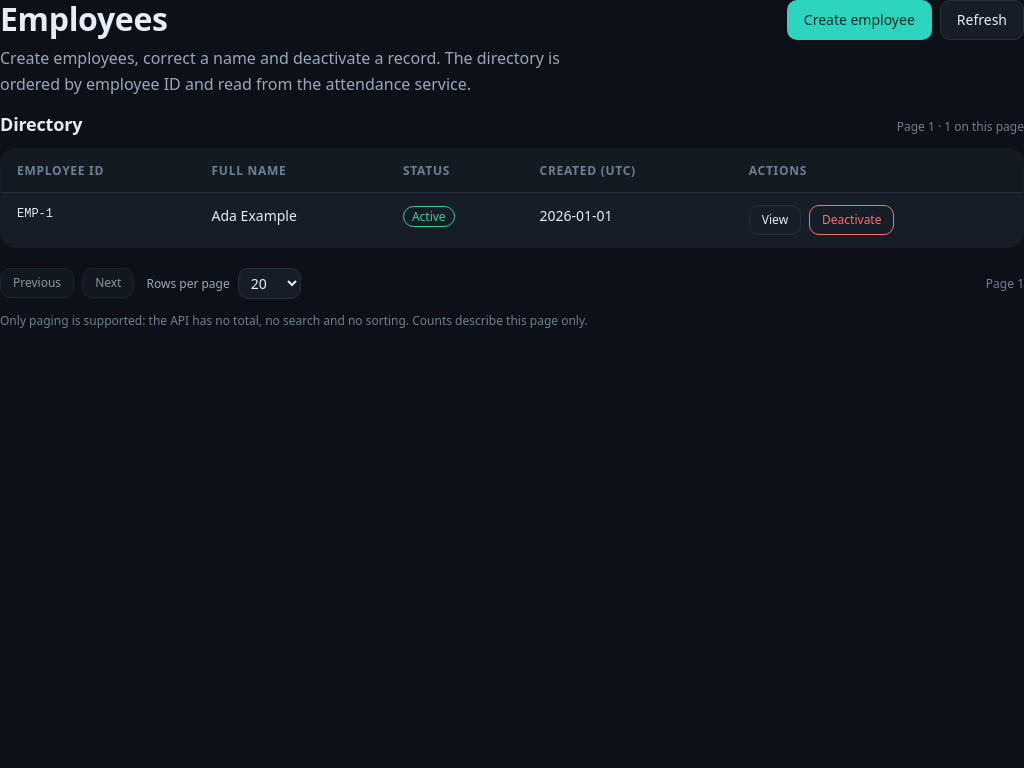
employee deactivation › cancelling closes the dialog without deactivating
The image size is (1024, 768).
Expected: the text "EMP-1" is shown, [17,207,53,221]
Click the button "Deactivate" at (852, 220), box [809,205,894,235]
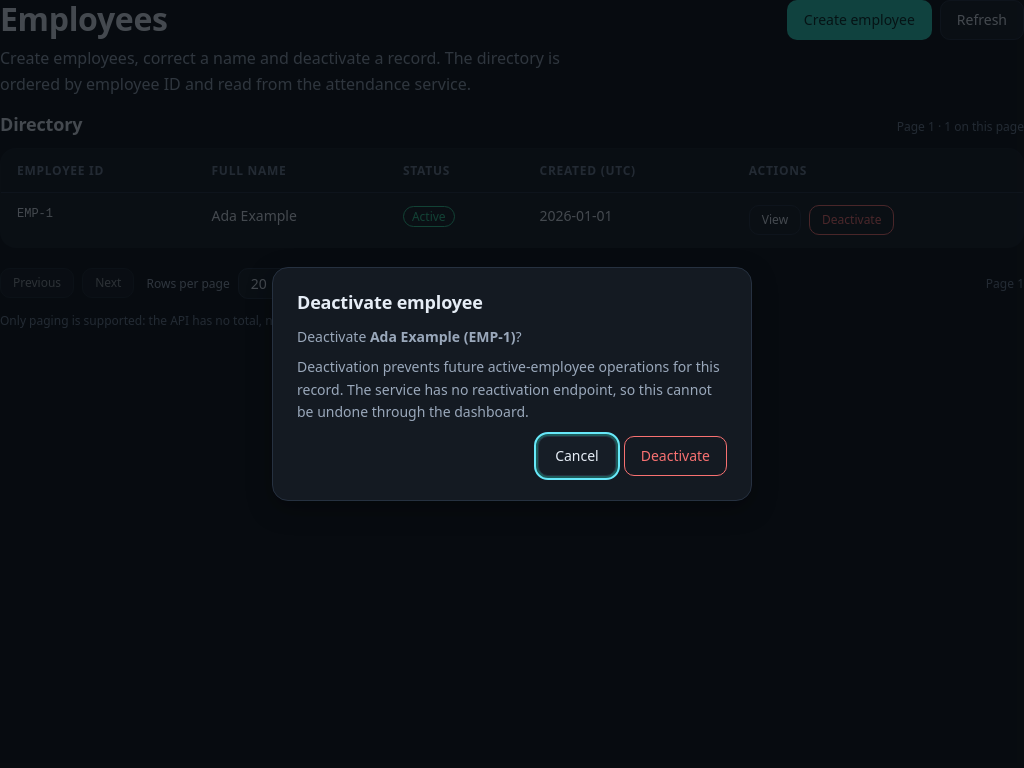
Click the button "Cancel" at (577, 456), box [538,436,616,476]
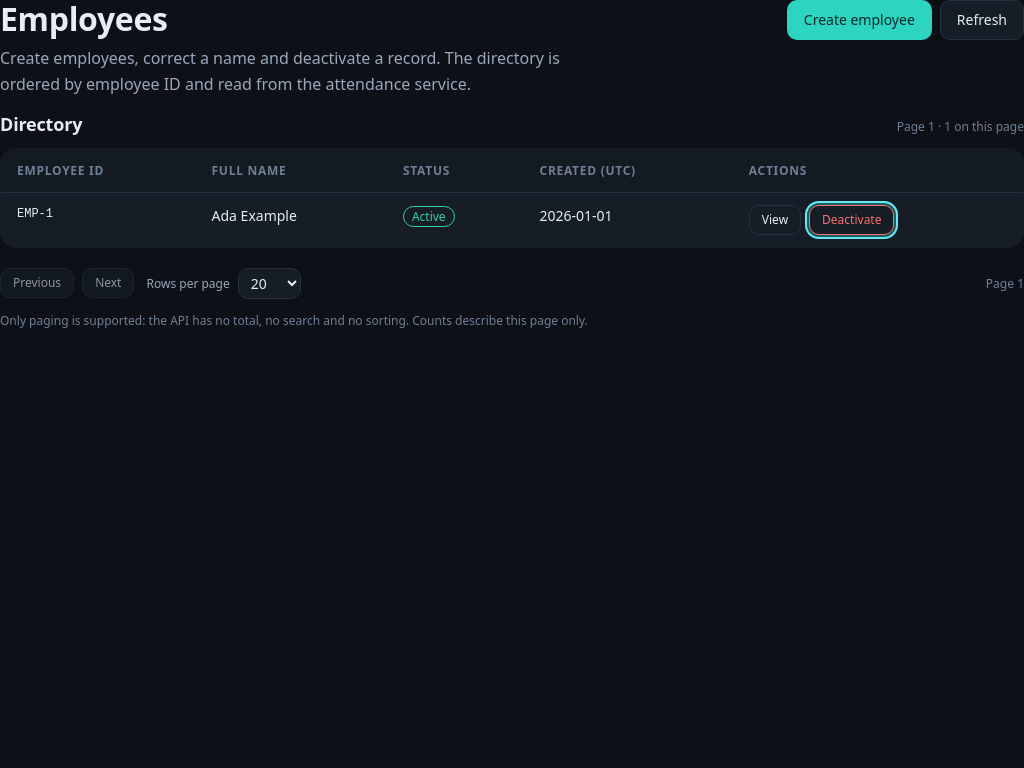
Expected: the dialog is gone
